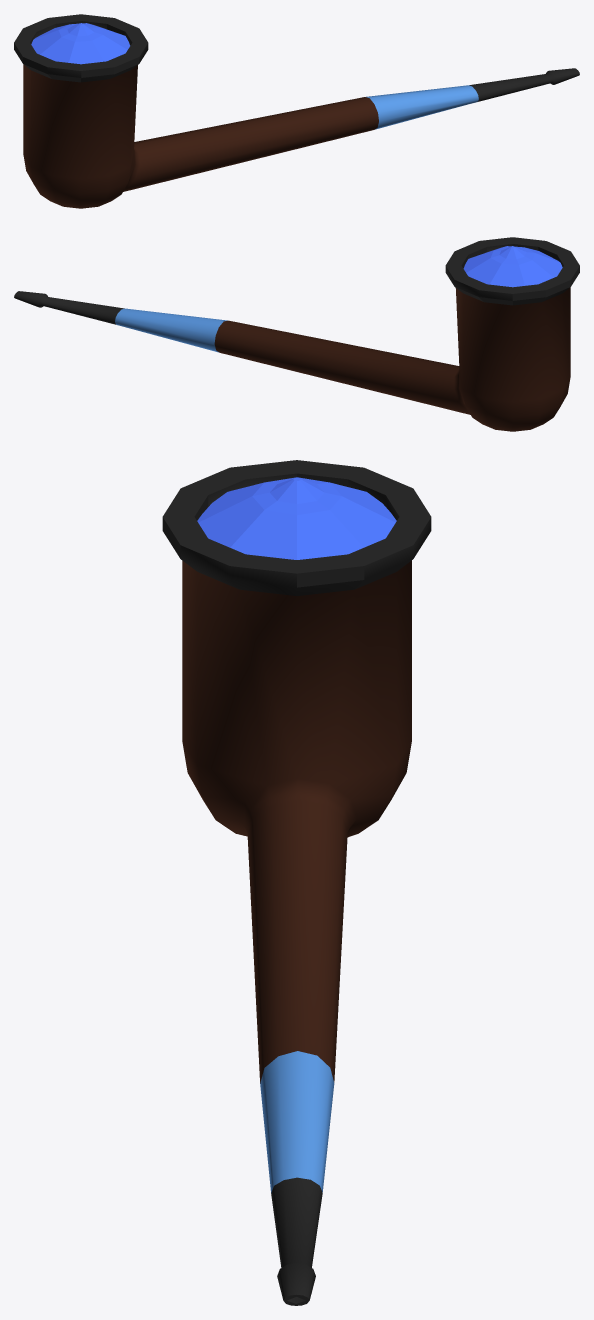
The model's file is ManaPipeModel.glb.
3 renders of one model, top to bottom at view 1: azimuth 30°, elevation 25°; view 2: azimuth 150°, elevation 25°; view 3: azimuth 270°, elevation 25°, orthographic. The views are drawn at different scales.
Visible parts, largest first — view 1: SmokePipe_1, Cube; view 2: SmokePipe_1, Cube; view 3: SmokePipe_1, Cube.
Boxes of the visible parts, x1,y1,x2,y2 form: SmokePipe_1: (14, 14, 579, 208); Cube: (31, 23, 130, 64); SmokePipe_1: (14, 237, 579, 431); Cube: (463, 246, 562, 287); SmokePipe_1: (162, 460, 431, 1305); Cube: (197, 477, 396, 559).
Bounding box in the file's own units: 0.1564 × 0.0474 × 0.0329.
